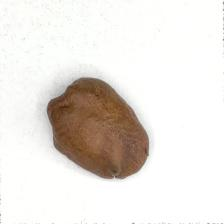NG: (46, 77, 94, 153)
